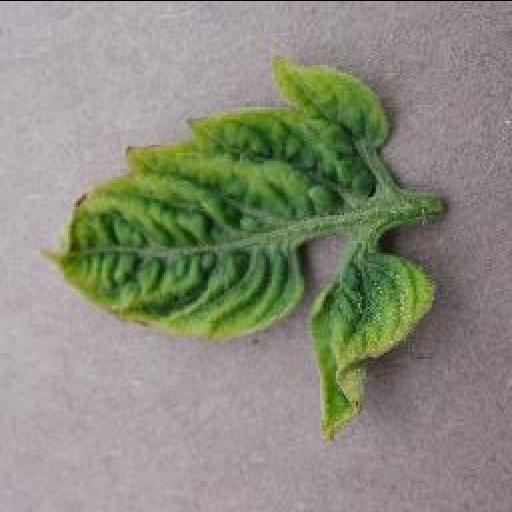disease_tomato: (42, 56, 394, 333), (310, 245, 440, 445)
